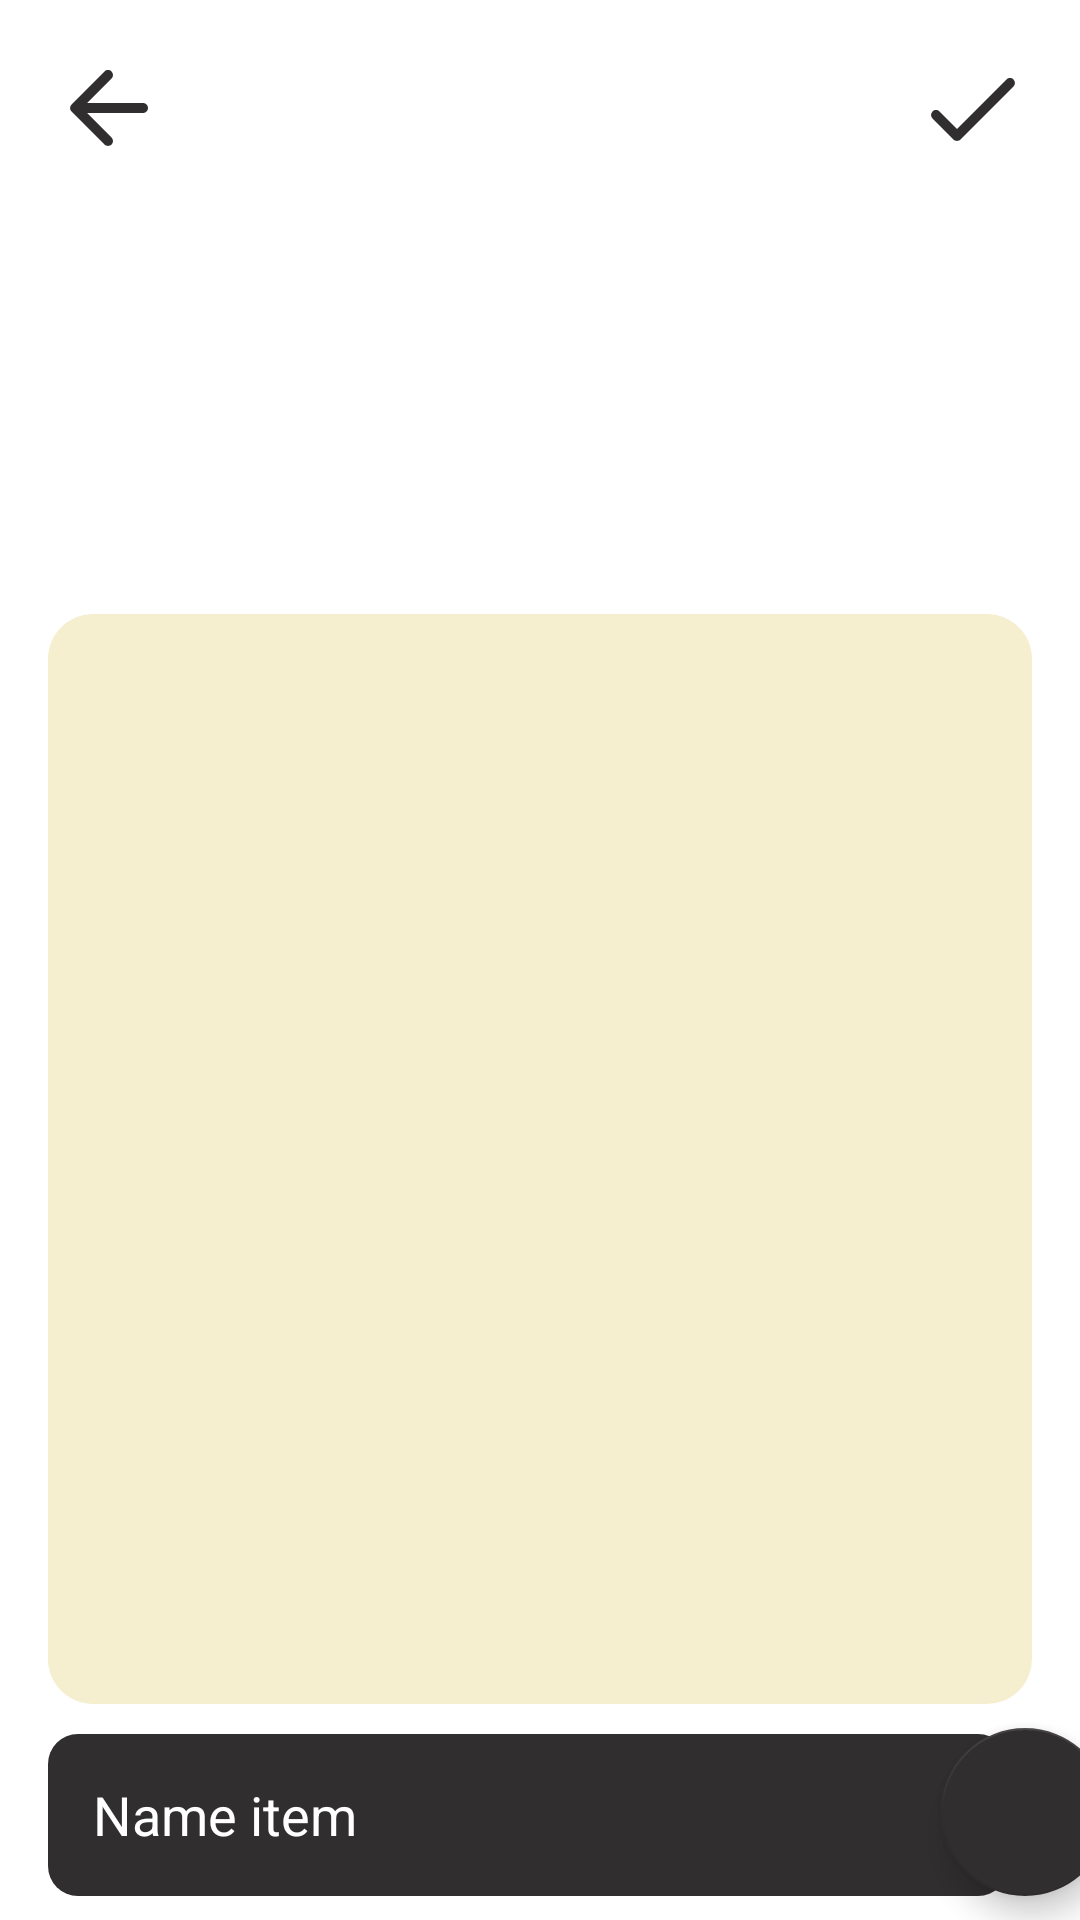

Screen size 1080 × 1920. Icon name, then its center in pixels as point (x, y):
arrow back: point (109, 108)
done: point (973, 109)
